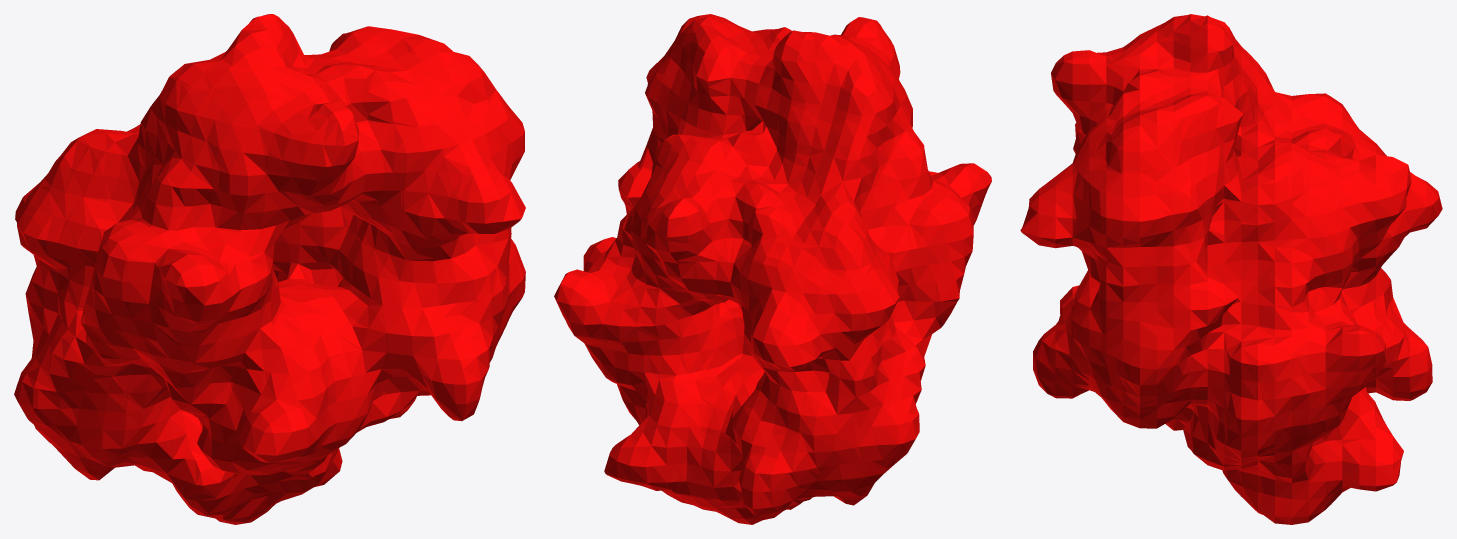
The model's file is fucU_coarse.dae.
3 renders of one model, left to right at view 1: azimuth 30°, elevation 25°; view 2: azimuth 150°, elevation 25°; view 3: azimuth 270°, elevation 25°, orthographic. The views are drawn at different scales.
Parts seen in each view (by area): view 1: fucU; view 2: fucU; view 3: fucU.
Part boxes in pixels (x1,y1,x2,y2): fucU: (14,14,525,524); fucU: (554,14,991,524); fucU: (1020,14,1442,524).
Size of the model in its own units: 90.69 by 113 by 89.62.
